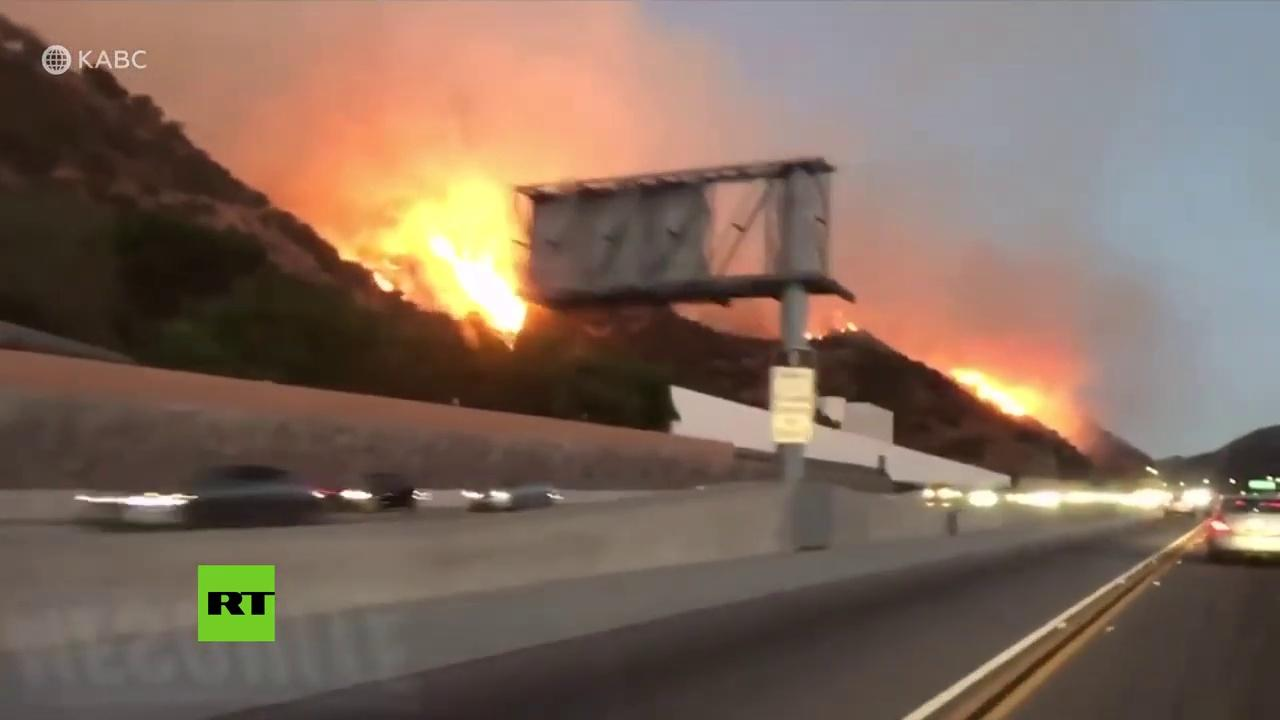Fire: (339, 185, 534, 337), (951, 368, 1045, 421)
